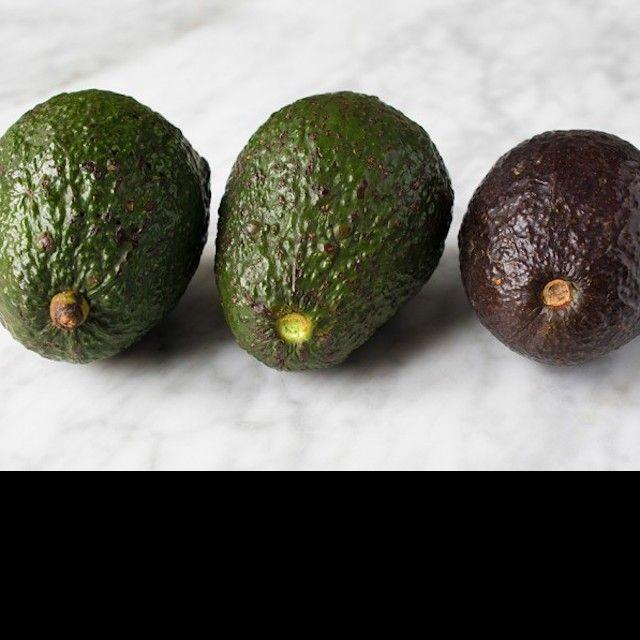ripe: (459, 130, 640, 368)
unripe: (214, 91, 453, 371), (1, 90, 210, 364)
